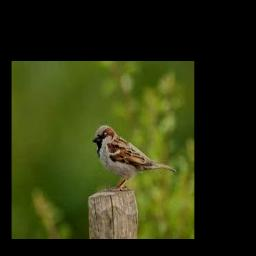Sparrow: (92, 125, 176, 190)
